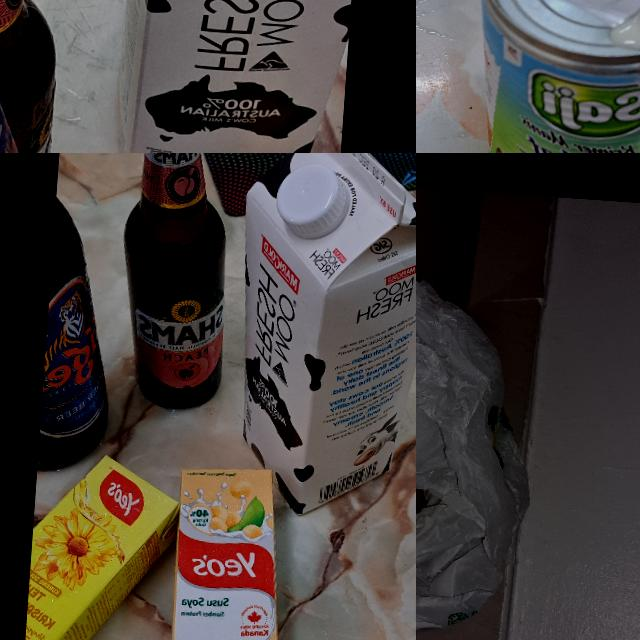caixinha: (225, 153, 416, 525), (110, 0, 369, 153), (20, 448, 179, 640), (163, 462, 294, 640)
garrafa de vidro: (111, 153, 239, 413), (37, 184, 124, 476), (0, 0, 96, 153)
lata: (461, 0, 640, 153)
sacola plástica: (416, 244, 546, 640)
tampa plástica: (274, 160, 346, 238)
